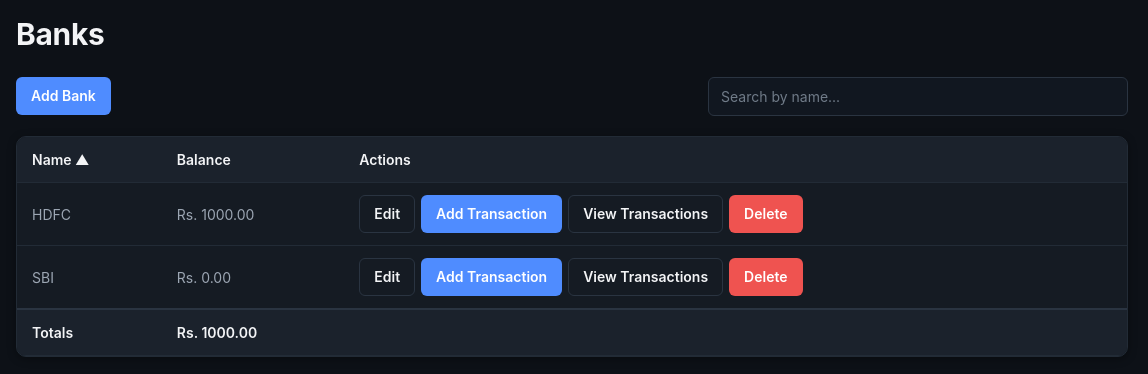
Test: Bank page › filters the bank list by name
Expected: the heading "Banks" is shown, [16,16,104,52]
Expected: the cell "HDFC" is shown, [17,182,162,246]
In the search field named "Search banks by name": [918, 96] box [708,77,1128,116], type "sb"
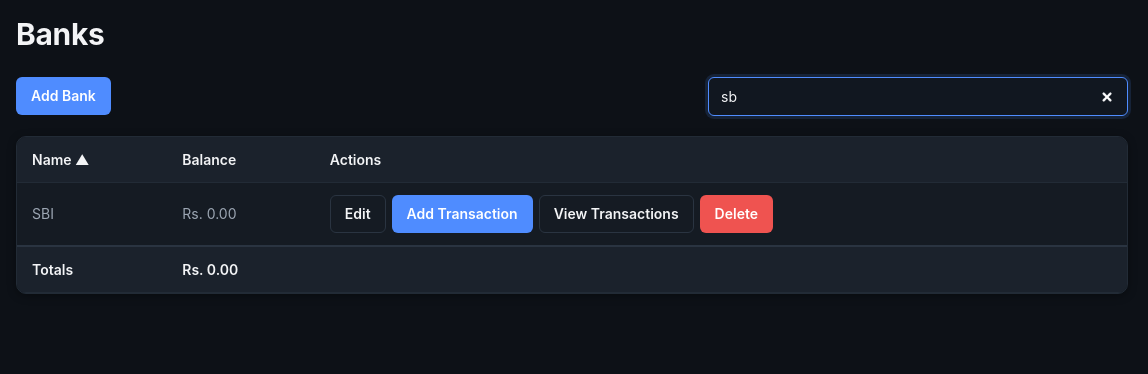
Expected: the cell "SBI" is shown, [17,182,167,246]
Expected: the cell "HDFC" is gone
